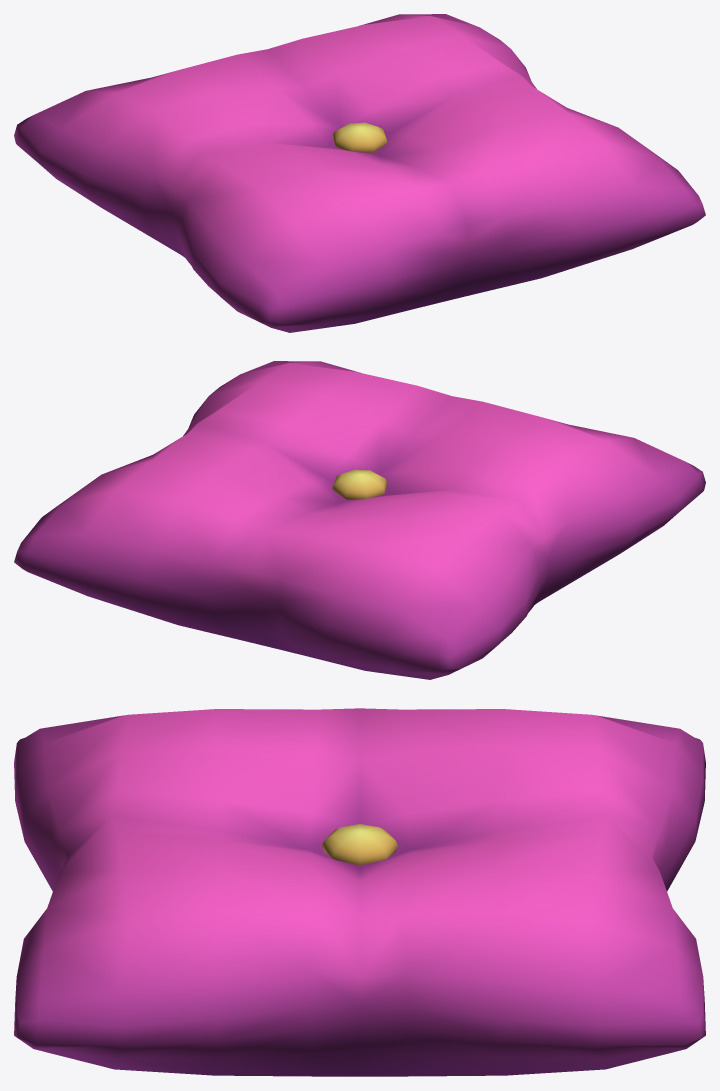
Rendered from pillow.fbx.
The picture shows the model from 3 angles, top to bottom: view 1: azimuth 30°, elevation 25°; view 2: azimuth 150°, elevation 25°; view 3: azimuth 270°, elevation 25°; orthographic projection. The views are drawn at different scales.
Visible parts, largest first — view 1: Pillow; view 2: Pillow; view 3: Pillow.
Boxes of the visible parts, left/top/right/bottom form: Pillow: left=14, top=14, right=705, bottom=332; Pillow: left=14, top=361, right=705, bottom=679; Pillow: left=14, top=708, right=705, bottom=1076.
Size of the model in its own units: 144 by 38.23 by 140.
